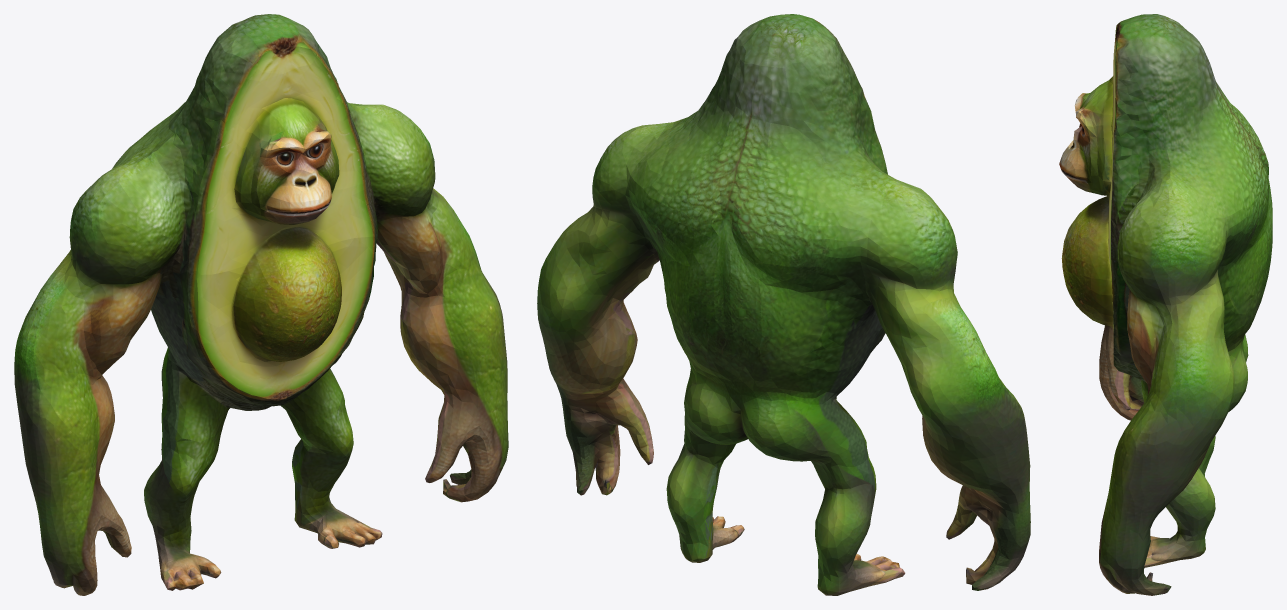
Rendered from Avocadogorilla_Fusion_0421025623_texture.obj.
The picture shows the model from 3 angles, left to right: view 1: azimuth 30°, elevation 25°; view 2: azimuth 150°, elevation 25°; view 3: azimuth 270°, elevation 25°; orthographic projection. The views are drawn at different scales.
Parts seen in each view (by area): view 1: Avocadogorilla_Fusion_0421025623_texture; view 2: Avocadogorilla_Fusion_0421025623_texture; view 3: Avocadogorilla_Fusion_0421025623_texture.
Part boxes in pixels (x1,y1,x2,y2): Avocadogorilla_Fusion_0421025623_texture: (14, 14, 508, 595); Avocadogorilla_Fusion_0421025623_texture: (537, 14, 1030, 595); Avocadogorilla_Fusion_0421025623_texture: (1059, 14, 1272, 595).
Bounding box in the file's own units: 1.82 × 2 × 0.766.
1 material, 1 textured.
